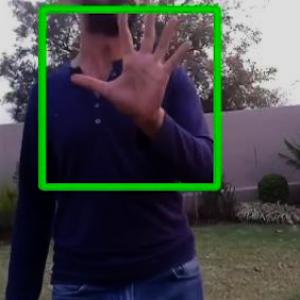follow_hand: (68, 0, 199, 128)
